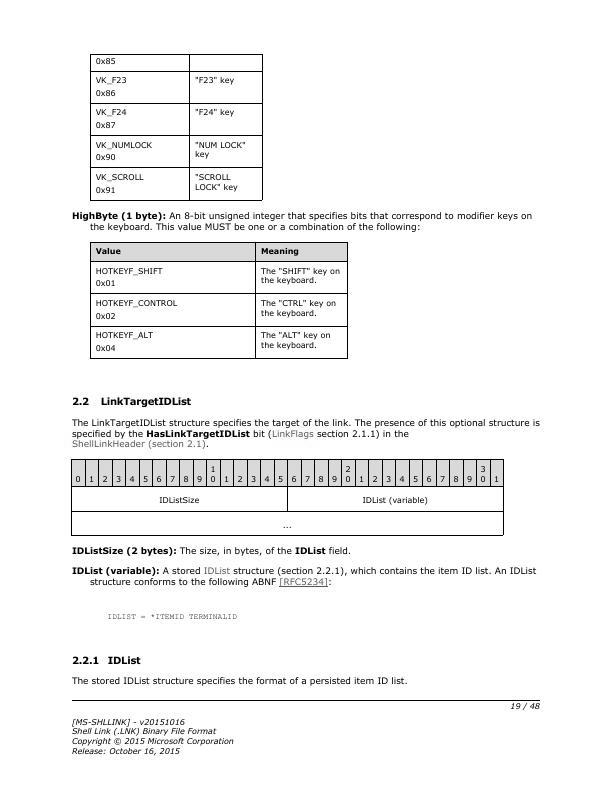table: (68, 458, 507, 539), (88, 240, 350, 361), (87, 50, 264, 202)
text: (71, 416, 543, 451), (68, 564, 537, 591), (68, 210, 537, 235), (67, 715, 236, 755), (68, 674, 412, 689), (68, 544, 354, 557), (102, 610, 240, 624), (70, 395, 193, 410), (70, 652, 141, 669)
